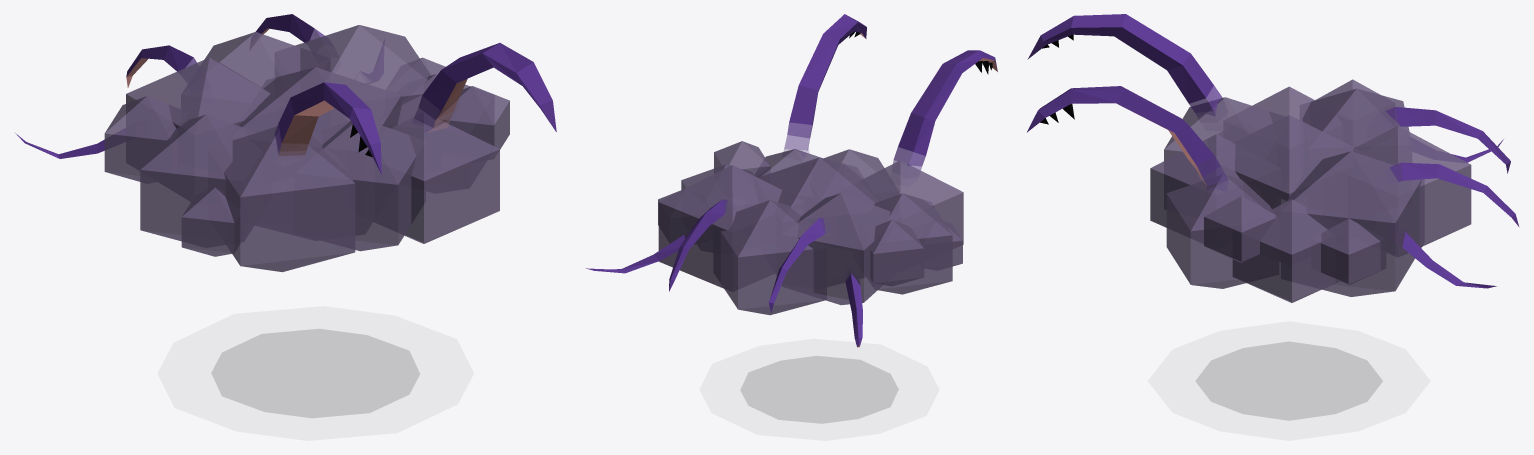
Rendered from chaos-elemental.gltf.
3 views of the same model, side by side, from view 1: azimuth 30°, elevation 25°; view 2: azimuth 150°, elevation 25°; view 3: azimuth 270°, elevation 25° (orthographic). The views are drawn at different scales.
Size of the model in its own units: 278 by 276 by 372.
2 materials, 2 textured.
